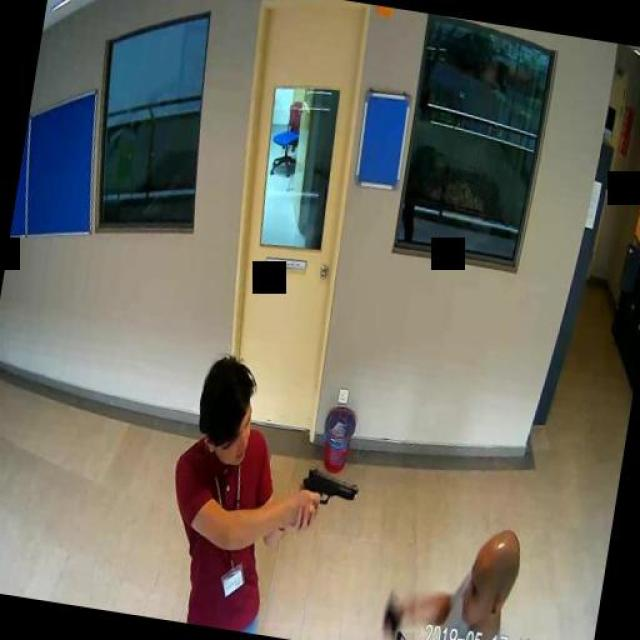gun: (295, 462, 359, 534)
